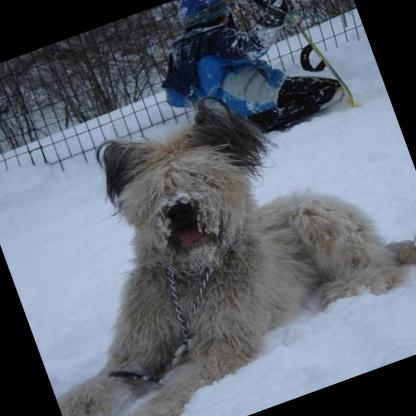briard: (0, 42, 416, 416)
